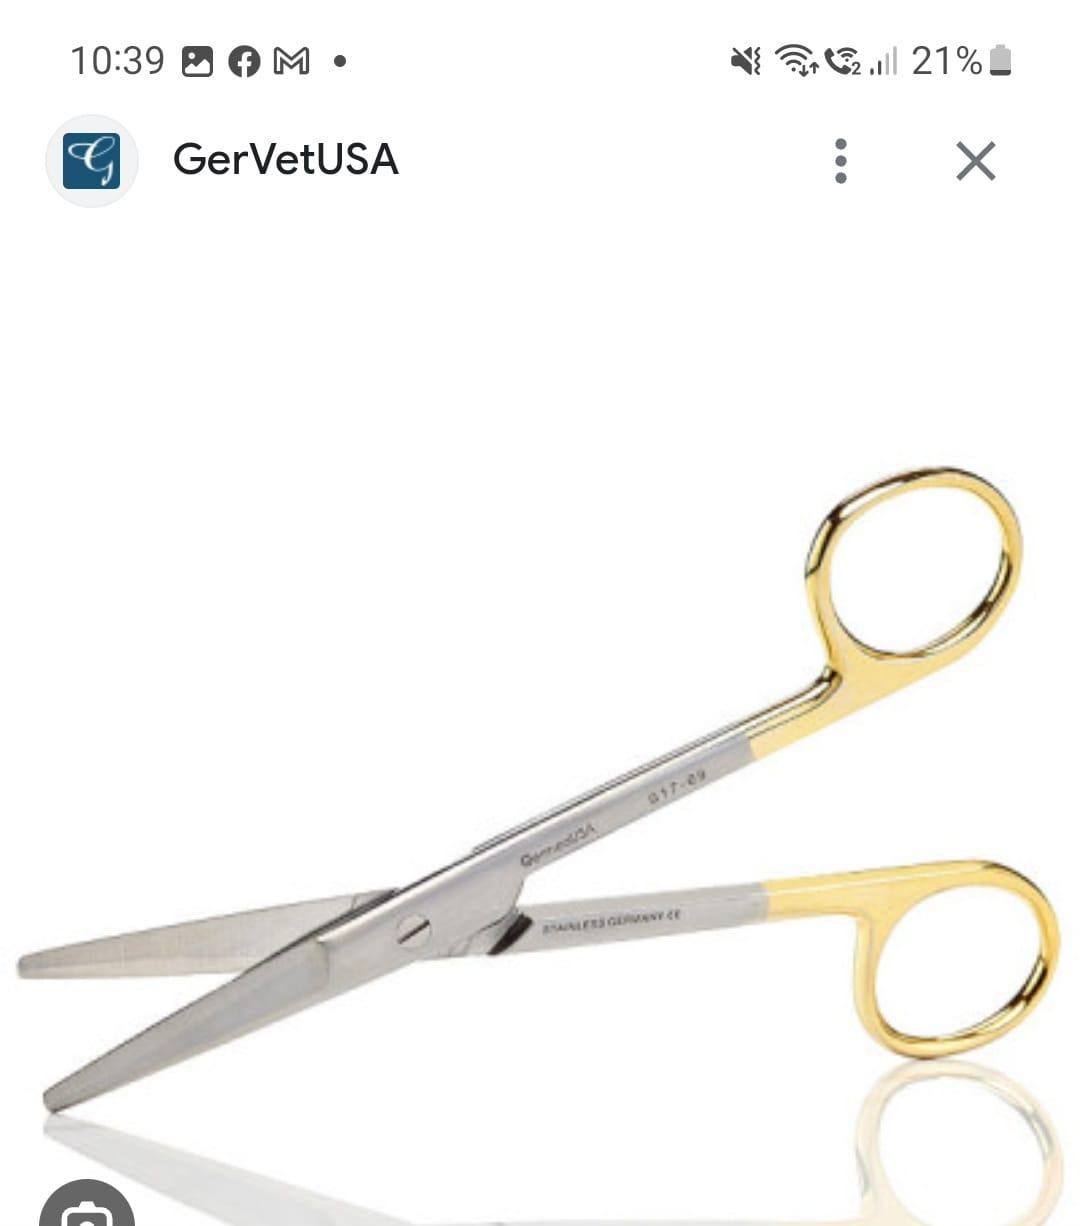Straight Mayo: (12, 462, 1058, 1124)
